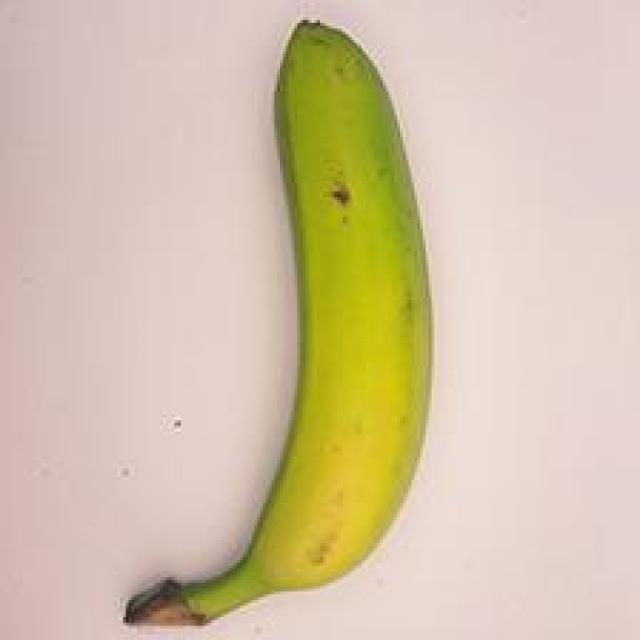unripe: (112, 8, 447, 640)
